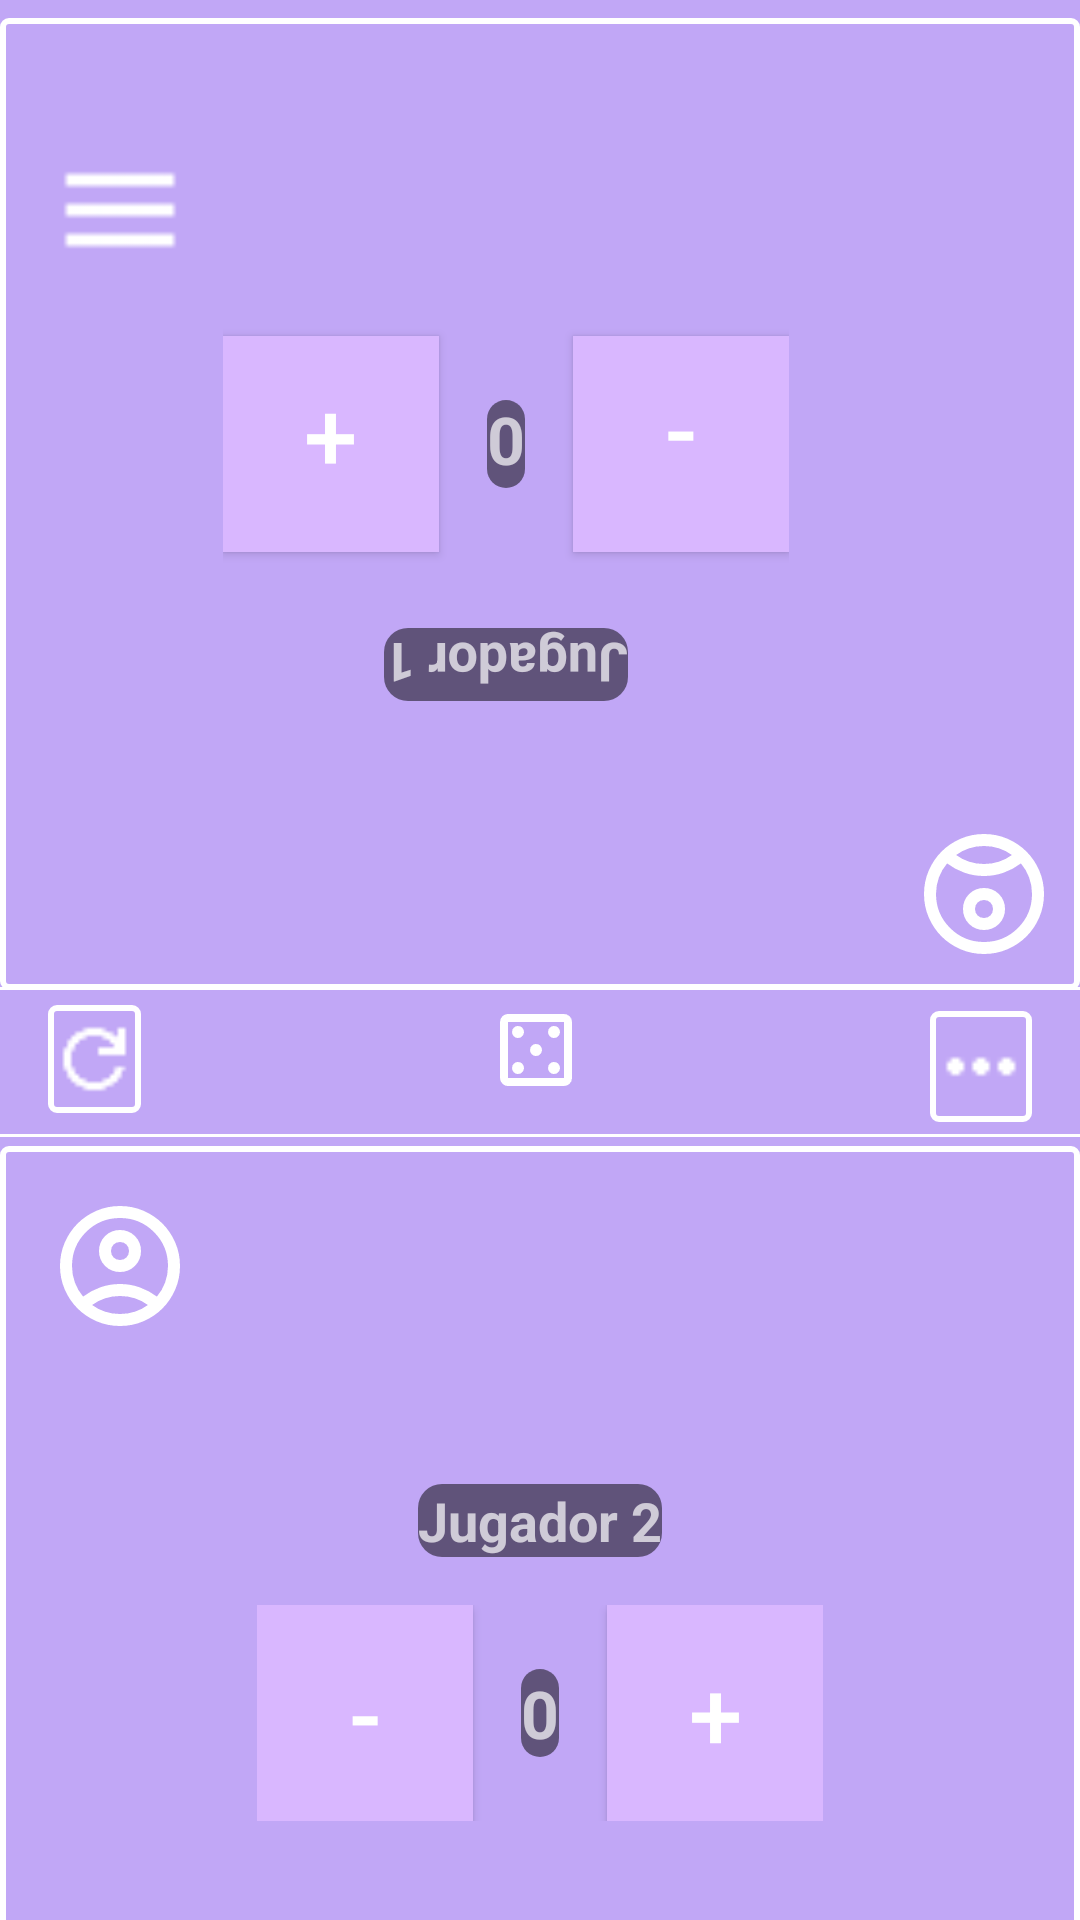

Icons on this 1080 × 1920 Android screen, each with its box as (x1, y1, x2, y2):
Boton para abrir el meni reiniciar la partida: (48, 1005, 141, 1113)
Boton para abrir el menu de la partida: (930, 1011, 1032, 1122)
boton para el menu de dados virtuales: (500, 1014, 572, 1086)
icono de usuario del jugador 2: (60, 1206, 180, 1326)
